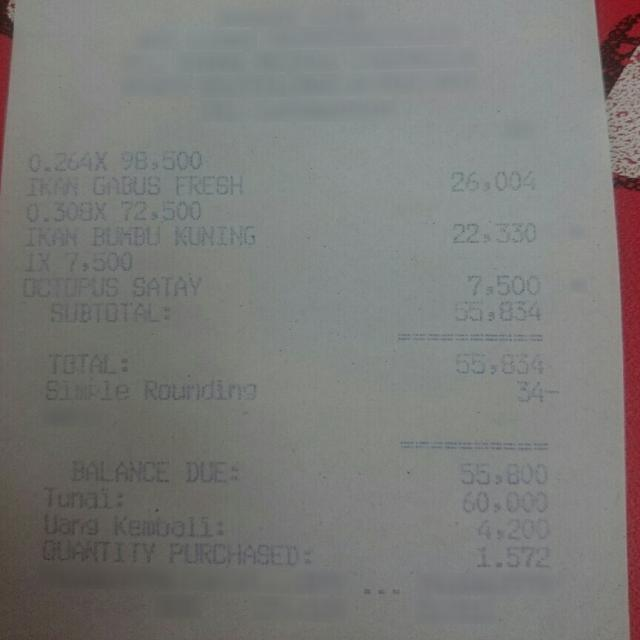kertas: (4, 0, 630, 640)
